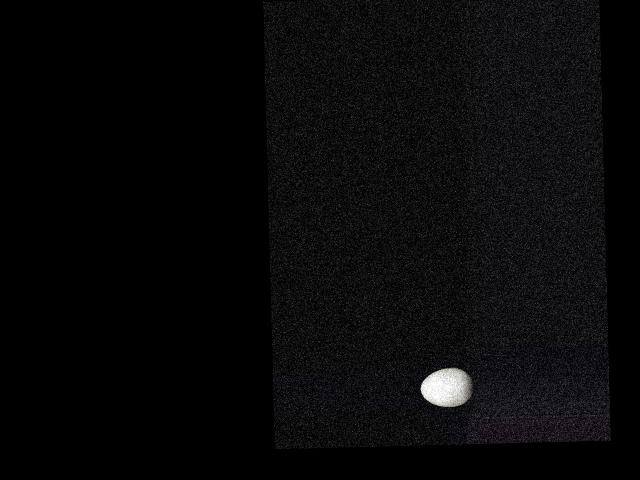egg: (420, 368, 474, 407)
